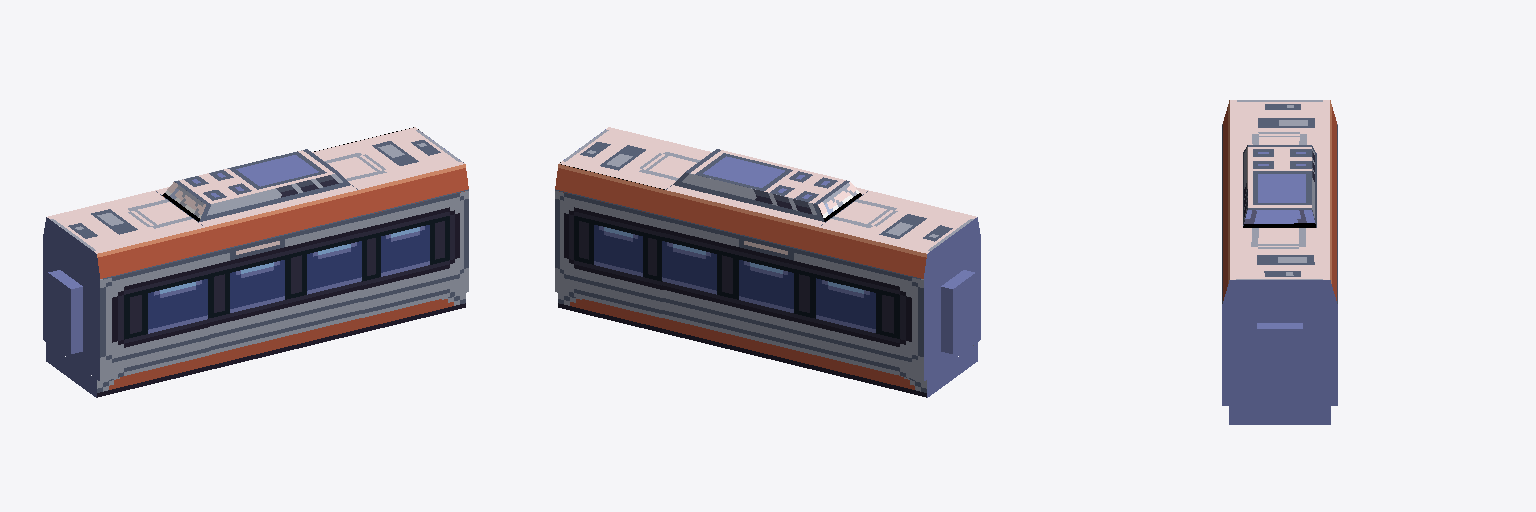
3 views of the same model, side by side, from view 1: azimuth 30°, elevation 25°; view 2: azimuth 150°, elevation 25°; view 3: azimuth 270°, elevation 25° (orthographic).
Parts seen in each view (by area): view 1: poly.002_Mesh; view 2: poly.002_Mesh; view 3: poly.002_Mesh.
Part boxes in pixels (x1,y1,x2,y2): poly.002_Mesh: (43,127,468,397); poly.002_Mesh: (555,127,980,397); poly.002_Mesh: (1222,100,1337,424).
Bounding box in the file's own units: 0.0976 × 0.0375 × 0.0248.
Materials: 1 (1 with a texture image).